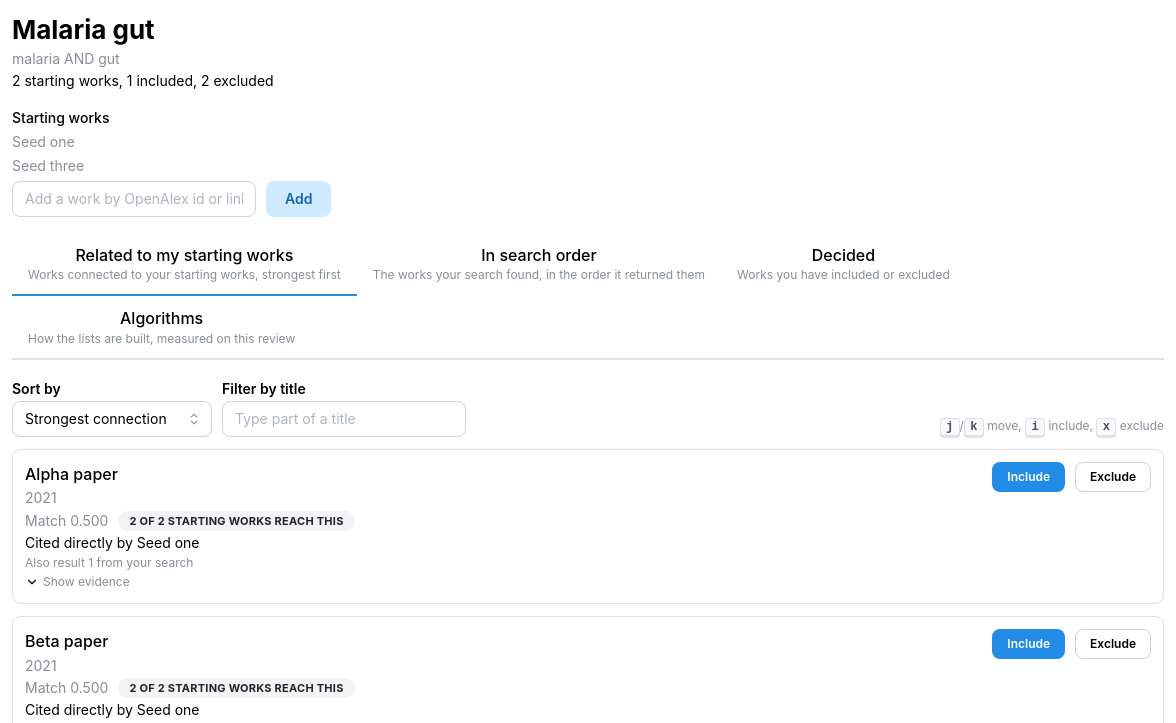
Test: ReviewScreen › filters the list over titles
The image size is (1176, 723).
Type "Beta" into the field labelled "Filter by title" at (344, 419), box [222, 401, 466, 437]
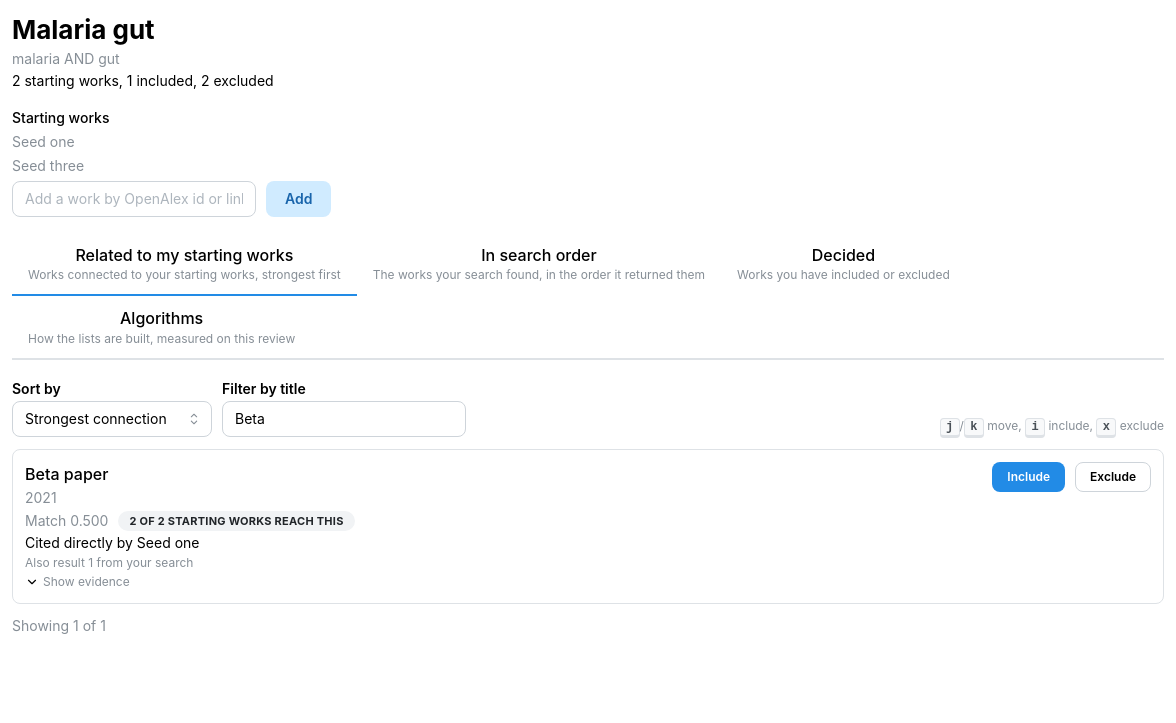
Expected: the text "Beta paper" is shown, [25, 464, 108, 484]
Expected: the text "Alpha paper" is gone
